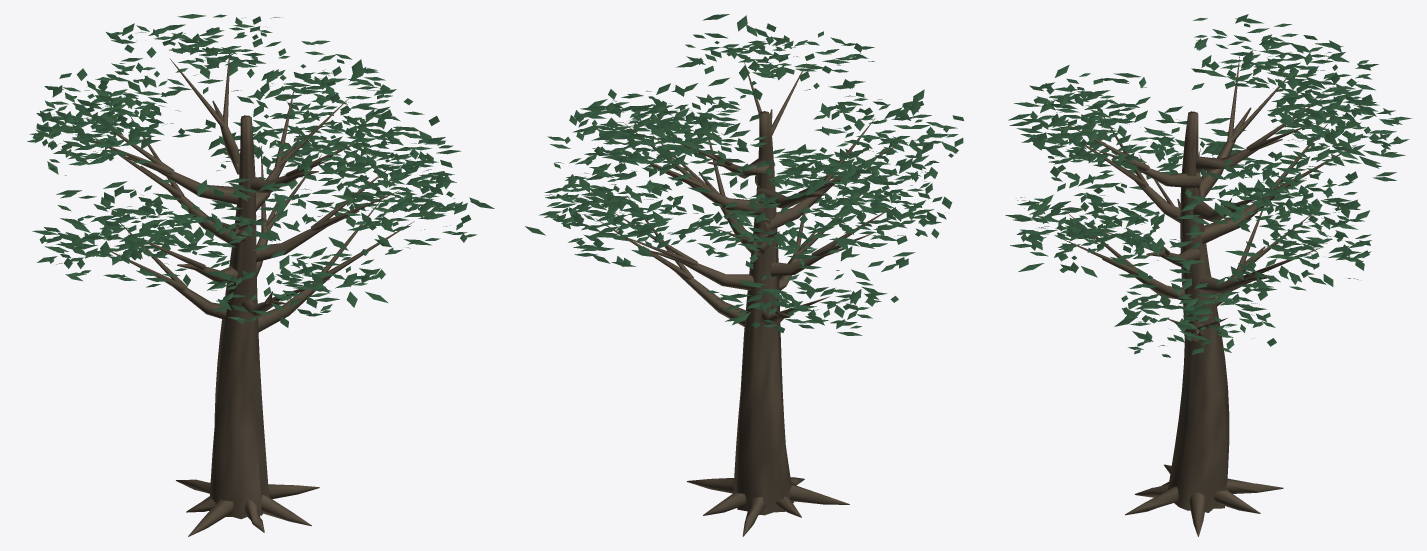
The model's file is ancient-tree.glb.
3 renders of one model, left to right at view 1: azimuth 30°, elevation 25°; view 2: azimuth 150°, elevation 25°; view 3: azimuth 270°, elevation 25°, orthographic.
Parts seen in each view (by area): view 1: Ancient_Tree_Leaves.155, Ancient_Tree_Wood.155; view 2: Ancient_Tree_Leaves.155, Ancient_Tree_Wood.155; view 3: Ancient_Tree_Leaves.155, Ancient_Tree_Wood.155.
Boxes of the visible parts, x1,y1,x2,y2 form: Ancient_Tree_Leaves.155: (27,14,494,327); Ancient_Tree_Wood.155: (86,49,414,536); Ancient_Tree_Leaves.155: (525,14,963,335); Ancient_Tree_Wood.155: (595,62,902,536); Ancient_Tree_Leaves.155: (1005,14,1412,357); Ancient_Tree_Wood.155: (1064,56,1356,536).
Bounding box in the file's own units: 8.32 × 8.59 × 7.47.
